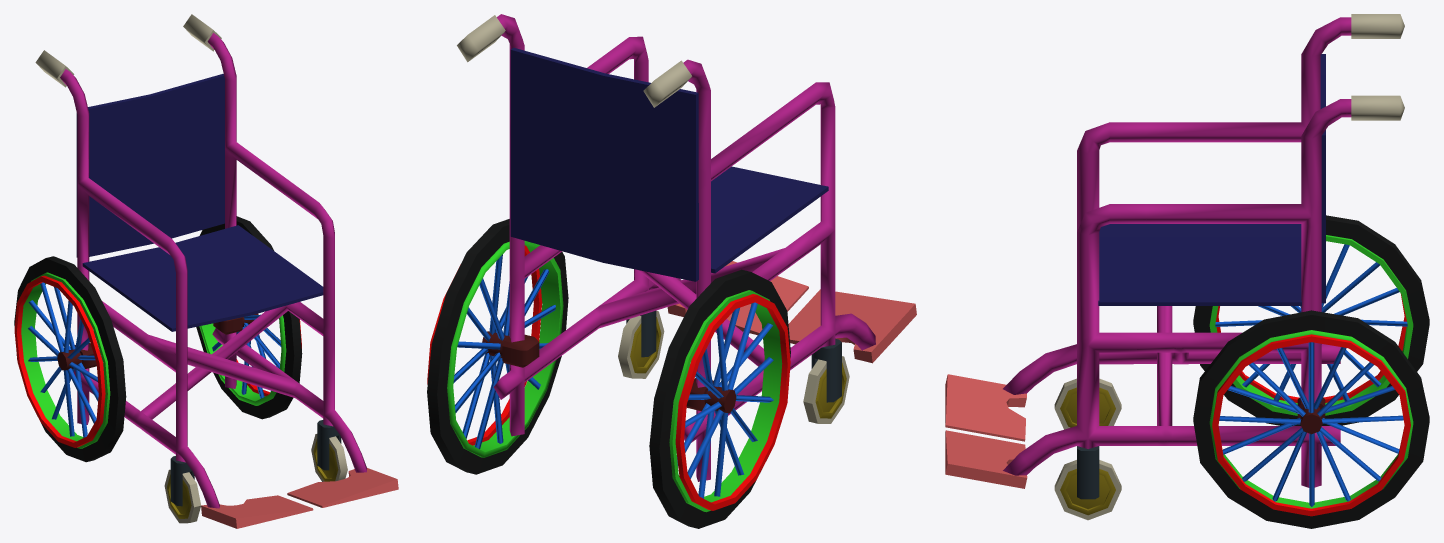
File: Model_Prop_Wheelchair_Reimported_Smoothed.fbx
3 renders of one model, left to right at view 1: azimuth 30°, elevation 25°; view 2: azimuth 150°, elevation 25°; view 3: azimuth 270°, elevation 25°, orthographic. The views are drawn at different scales.
Parts seen in each view (by area): view 1: Cylinder001, Seat, Seat Bottom, Big Wheel_02, Wheel Spoke_02, Wheel Metal_02, Wheel Turner_02, Big Wheel_01, Foot Rest 01, Foot Rest 003, Wheel Metal_01, Small Wheel Tire_02 (+8 smaller); view 2: Seat, Cylinder001, Big Wheel_02, Big Wheel_01, Seat Bottom, Wheel Spoke_02, Wheel Metal_02, Wheel Metal_01, Wheel Turner_02, Wheel Spoke_01, Foot Rest 003, Foot Rest 01 (+10 smaller); view 3: Cylinder001, Seat Bottom, Big Wheel_01, Wheel Spoke_01, Big Wheel_02, Wheel Turner_01, Foot Rest 003, Foot Rest 01, Wheel Spoke_02, Wheel Metal_01, Wheel Metal_02, SmallWheel Inside_01 (+8 smaller).
Part boxes in pixels (x1=…): Cylinder001: x1=60, y1=33, x2=366, y2=508; Seat: x1=76, y1=74, x2=224, y2=257; Seat Bottom: x1=82, y1=225, x2=323, y2=331; Big Wheel_02: x1=14, y1=256, x2=126, y2=462; Wheel Spoke_02: x1=28, y1=282, x2=98, y2=437; Wheel Metal_02: x1=21, y1=272, x2=110, y2=448; Wheel Turner_02: x1=14, y1=275, x2=105, y2=447; Big Wheel_01: x1=196, y1=216, x2=302, y2=419; Foot Rest 01: x1=287, y1=468, x2=398, y2=507; Foot Rest 003: x1=201, y1=495, x2=313, y2=528; Wheel Metal_01: x1=199, y1=315, x2=286, y2=405; Small Wheel Tire_02: x1=164, y1=469, x2=201, y2=523; Seat: x1=510, y1=47, x2=698, y2=281; Cylinder001: x1=493, y1=14, x2=875, y2=481; Big Wheel_02: x1=649, y1=269, x2=790, y2=528; Big Wheel_01: x1=427, y1=219, x2=568, y2=474; Seat Bottom: x1=711, y1=166, x2=828, y2=273; Wheel Spoke_02: x1=677, y1=302, x2=773, y2=498; Wheel Metal_02: x1=669, y1=290, x2=782, y2=512; Wheel Metal_01: x1=447, y1=241, x2=563, y2=457; Wheel Turner_02: x1=675, y1=294, x2=790, y2=510; Wheel Spoke_01: x1=453, y1=254, x2=555, y2=449; Foot Rest 003: x1=788, y1=289, x2=916, y2=363; Foot Rest 01: x1=667, y1=261, x2=808, y2=335; Cylinder001: x1=1003, y1=17, x2=1351, y2=487; Seat Bottom: x1=1098, y1=224, x2=1301, y2=305; Big Wheel_01: x1=1193, y1=310, x2=1429, y2=528; Wheel Spoke_01: x1=1219, y1=342, x2=1403, y2=506; Big Wheel_02: x1=1193, y1=215, x2=1429, y2=425; Wheel Turner_01: x1=1212, y1=334, x2=1410, y2=516; Foot Rest 003: x1=945, y1=374, x2=1026, y2=441; Foot Rest 01: x1=945, y1=430, x2=1027, y2=488; Wheel Spoke_02: x1=1215, y1=244, x2=1407, y2=401; Wheel Metal_01: x1=1209, y1=330, x2=1413, y2=508; Wheel Metal_02: x1=1209, y1=235, x2=1413, y2=415; SmallWheel Inside_01: x1=1060, y1=469, x2=1115, y2=515.
Size of the model in its own units: 25.19 by 44.58 by 46.32.
